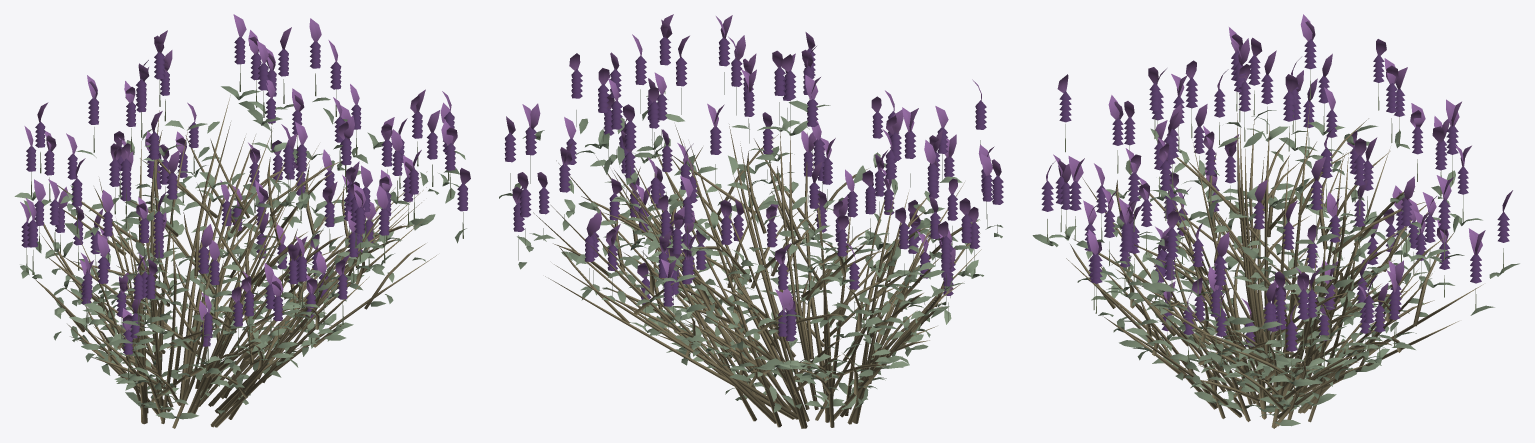
Rendered from Lavande_Incline_LOD1.fbx.
The picture shows the model from 3 angles, left to right: view 1: azimuth 30°, elevation 25°; view 2: azimuth 150°, elevation 25°; view 3: azimuth 270°, elevation 25°; orthographic projection. The views are drawn at different scales.
Parts seen in each view (by area): view 1: Lavande_Incline_LOD1; view 2: Lavande_Incline_LOD1; view 3: Lavande_Incline_LOD1.
Part boxes in pixels (x1,y1,x2,y2): Lavande_Incline_LOD1: [14, 14, 470, 428]; Lavande_Incline_LOD1: [499, 14, 1003, 428]; Lavande_Incline_LOD1: [1032, 14, 1519, 428].
Bounding box in the file's own units: 80.42 × 60.53 × 71.19.
